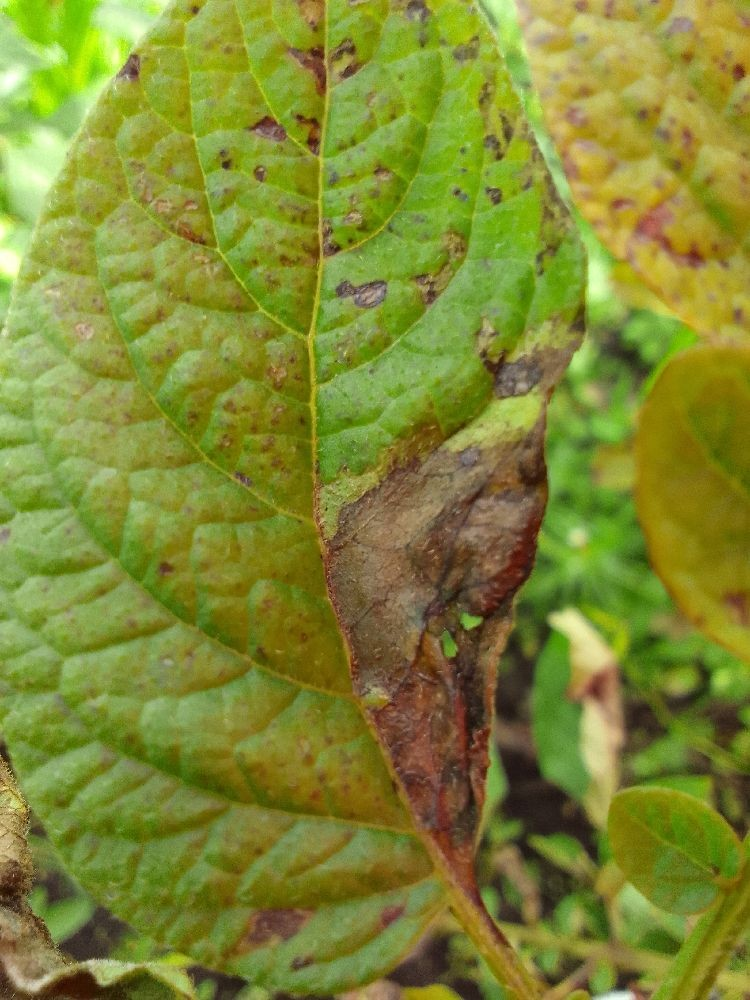late_blight: (140, 295, 749, 999), (263, 181, 390, 351), (119, 146, 247, 295), (269, 24, 380, 171)
